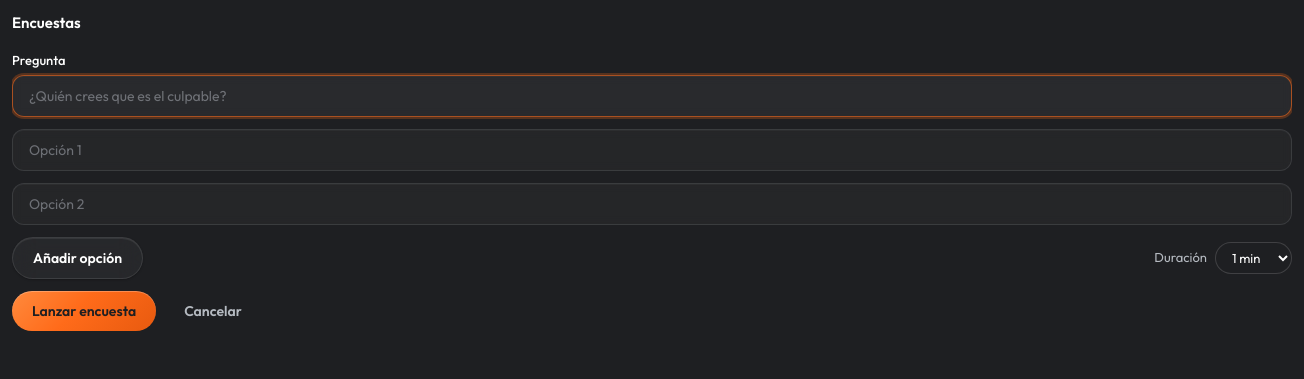
PollPanel — host › valida antes de enviar
Click the button "Lanzar encuesta" at coordinates (84, 310), box 12,290 -> 156,330
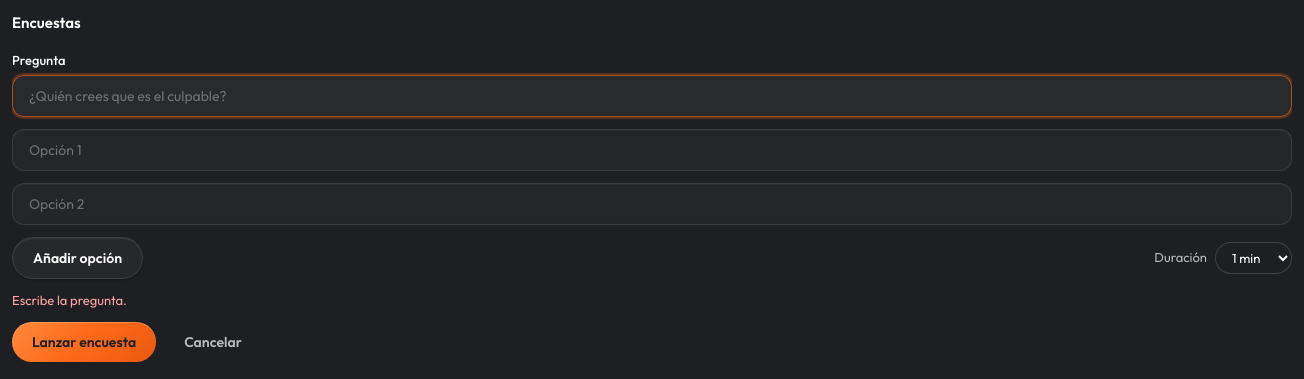
Check: the message reads "Escribe la pregunta.", box 12,292 -> 127,308
